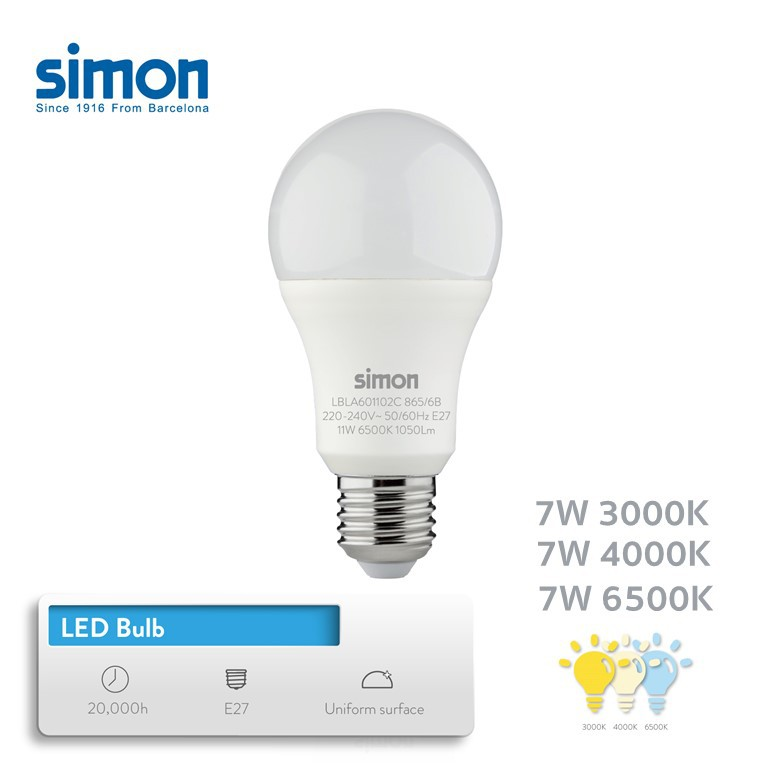Light_bulb: (258, 95, 513, 584)
